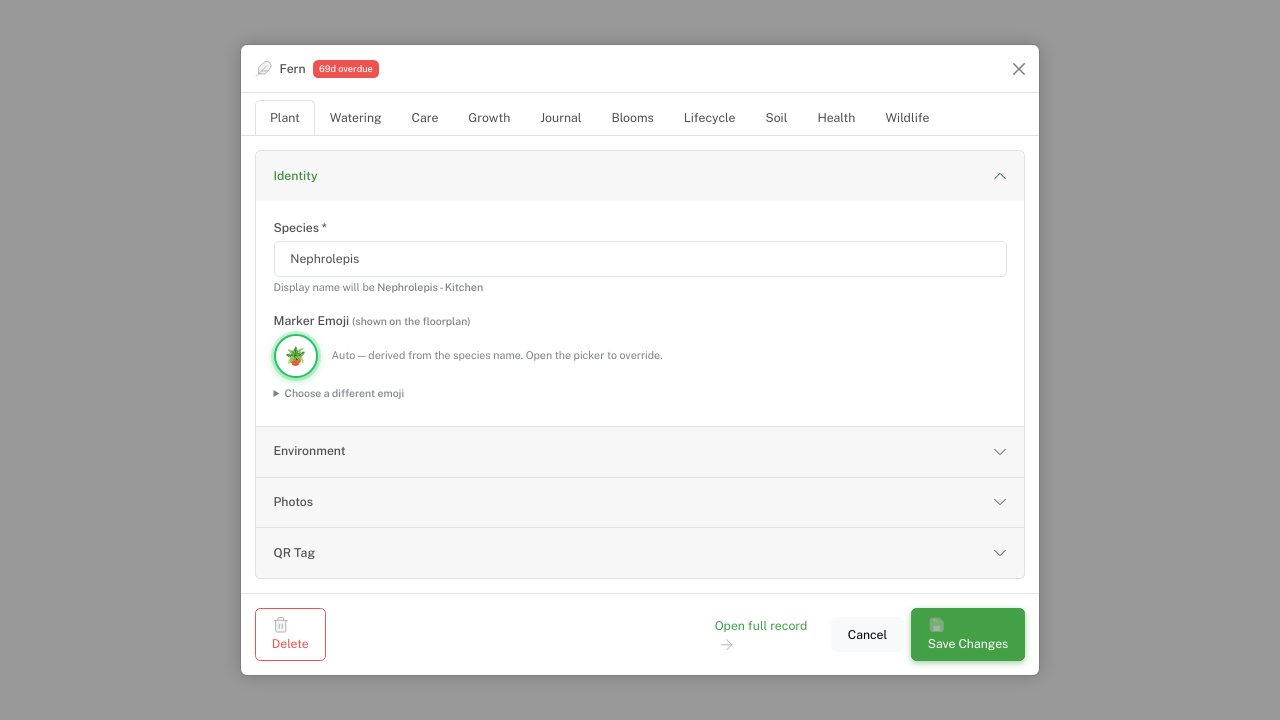
PlantModal › hides the Save button on the Watering tab
This screenshot has width=1280, height=720.
Step 1. Click the tab "Watering" → click(356, 118), box [315,100,397,136]
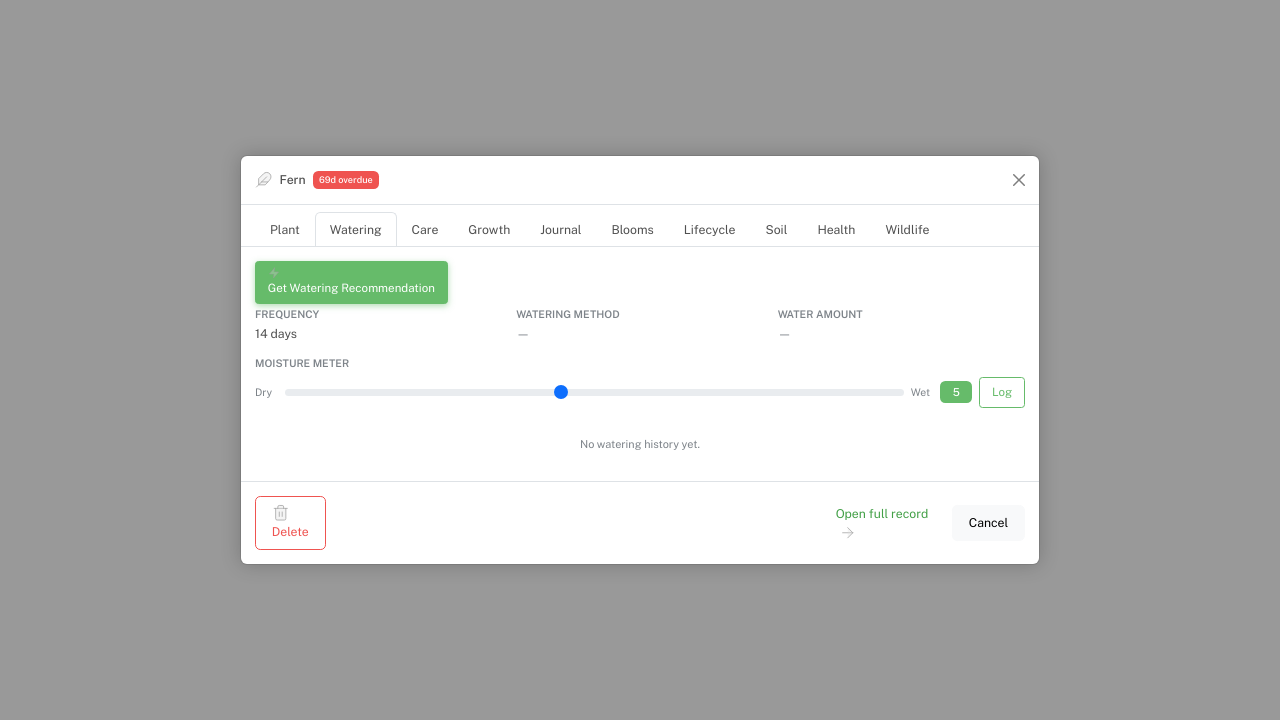
Expected: the button "Save Changes" is gone
